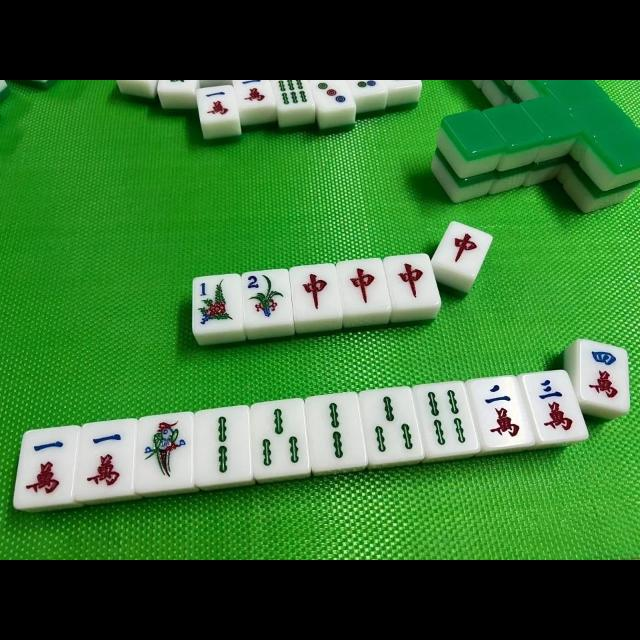b1: (140, 417, 192, 489)
b2: (306, 394, 364, 468), (196, 409, 250, 481)
b3: (362, 390, 420, 460), (252, 402, 308, 474)
b4: (418, 384, 476, 454)
c1: (78, 422, 134, 496), (19, 431, 73, 505), (199, 86, 235, 120)
c2: (472, 378, 530, 448)
c3: (526, 371, 582, 441)
c4: (580, 344, 626, 404)
d3: (311, 80, 354, 110)
dr: (338, 259, 388, 311), (388, 254, 436, 308), (291, 265, 339, 317), (439, 225, 485, 273)
f1-s: (194, 278, 242, 330)
f2-s: (243, 272, 291, 324)
